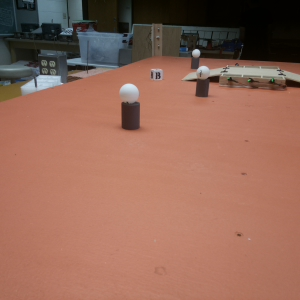blockB: (150, 68, 164, 80)
corner: (150, 24, 164, 59)
obstacle: (117, 83, 145, 134), (197, 66, 211, 99), (191, 49, 201, 63)
side: (216, 74, 287, 92)
